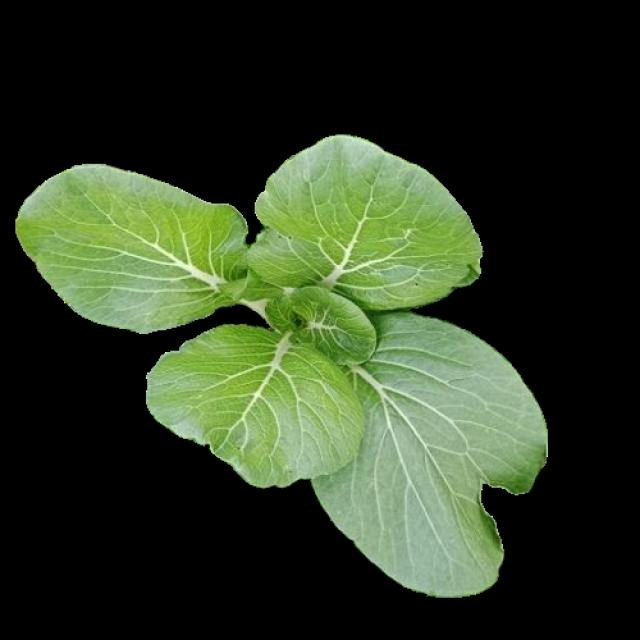mature: (16, 138, 546, 595)
unhealthy: (311, 312, 544, 593)
